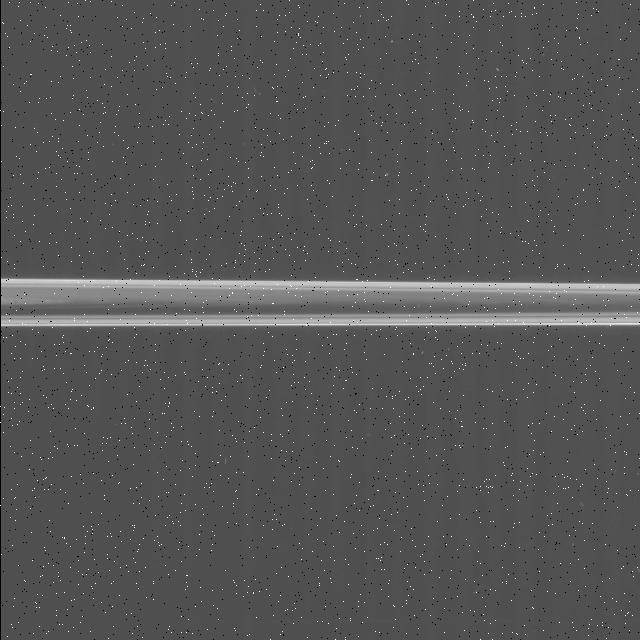Saturn: (0, 276, 640, 328)
